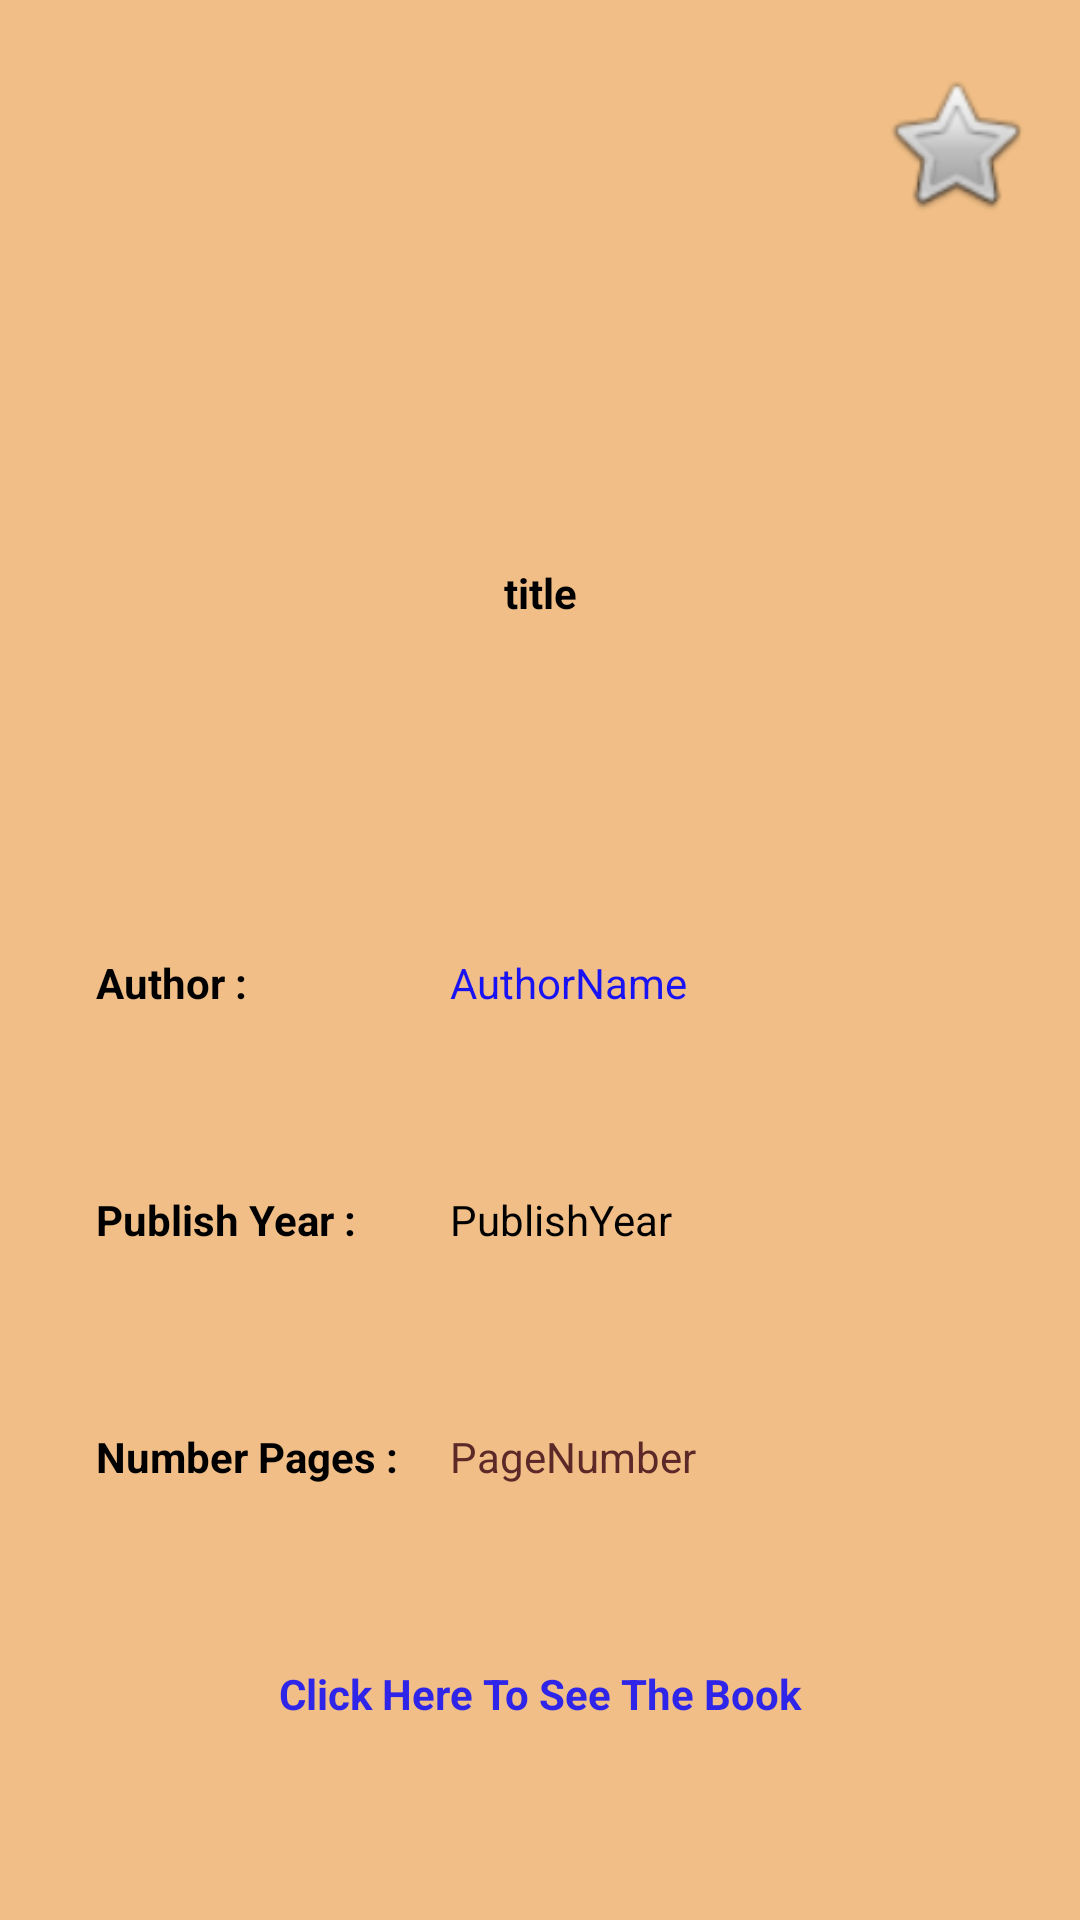

Icons on this 1080*1920 Android screen, each with its box as detection(x1, y1, x2, y2):
star off: detection(893, 83, 1021, 207)
